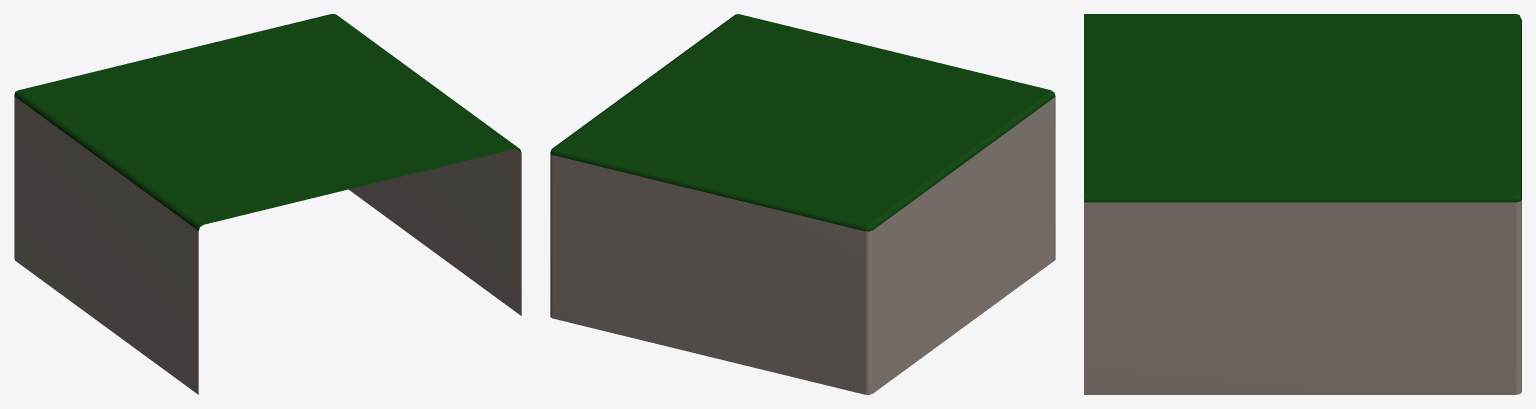
The model's file is Cliff_03.fbx.
3 views of the same model, side by side, from view 1: azimuth 30°, elevation 25°; view 2: azimuth 150°, elevation 25°; view 3: azimuth 270°, elevation 25° (orthographic). The views are drawn at different scales.
Parts seen in each view (by area): view 1: Cliff_03; view 2: Cliff_03; view 3: Cliff_03.
Part boxes in pixels (x1,y1,x2,y2): Cliff_03: (14, 14, 521, 394); Cliff_03: (550, 14, 1055, 394); Cliff_03: (1084, 14, 1521, 394).
Size of the model in its own units: 200 by 100 by 200.
